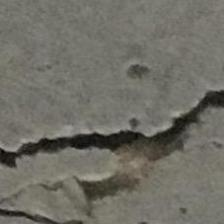Crack: (1, 51, 224, 224)
